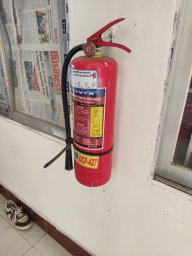fire_extinguisher: (13, 80, 141, 173), (41, 98, 141, 167)
